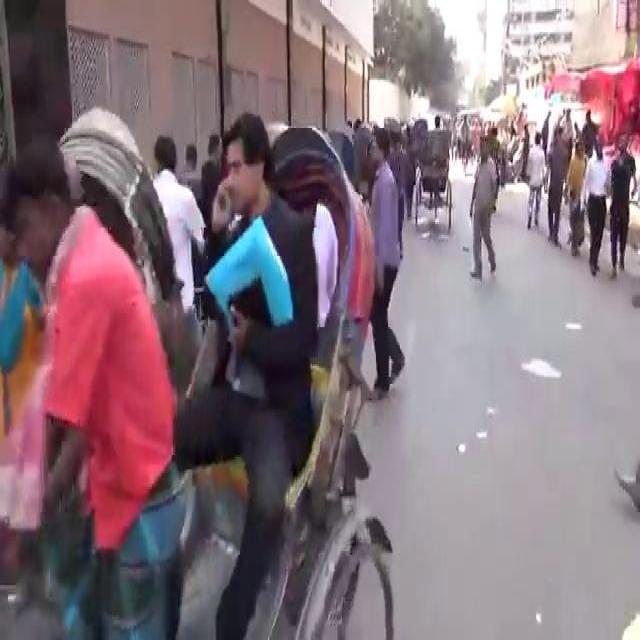rickshaw: (168, 117, 396, 633), (46, 95, 182, 317), (412, 119, 453, 237), (325, 116, 359, 186), (454, 118, 472, 174)
